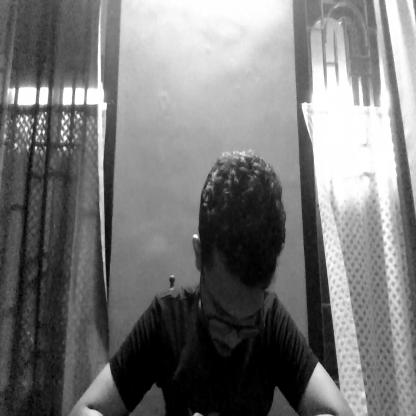Distracted: (197, 142, 273, 367)
